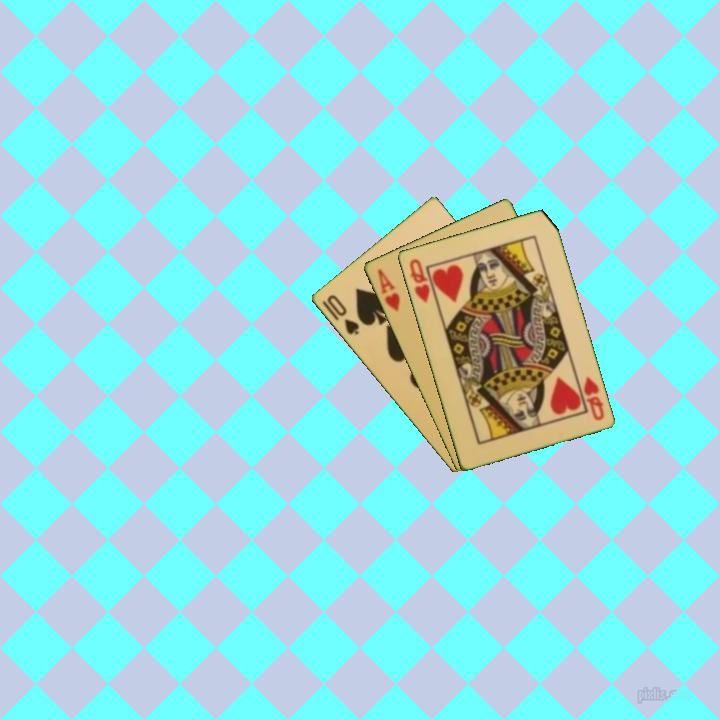10s: (323, 291, 362, 338)
Ah: (373, 265, 403, 314)
Qh: (579, 372, 607, 423), (406, 255, 432, 306)
